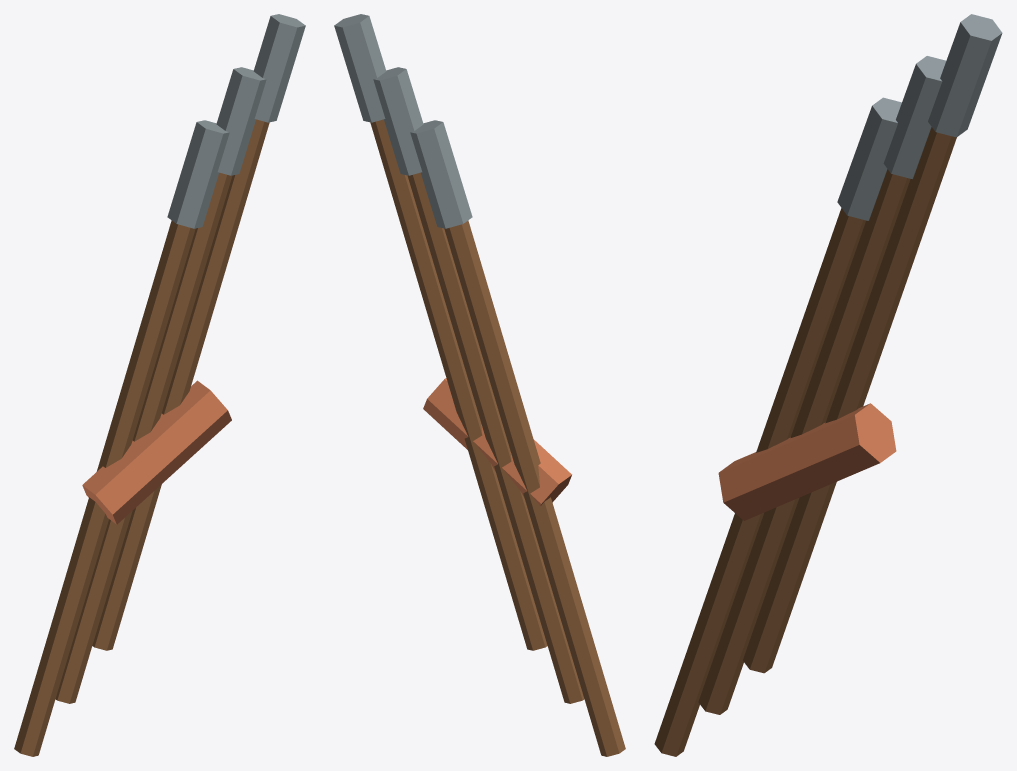
The model's file is javelin_bundle.glb.
The picture shows the model from 3 angles, left to right: view 1: azimuth 30°, elevation 25°; view 2: azimuth 150°, elevation 25°; view 3: azimuth 330°, elevation 25°; orthographic projection. The views are drawn at different scales.
Parts seen in each view (by area): view 1: javelin_bundle; view 2: javelin_bundle; view 3: javelin_bundle.
Boxes of the visible parts, x1,y1,x2,y2 form: javelin_bundle: (14,14,305,756); javelin_bundle: (334,14,625,756); javelin_bundle: (654,14,1002,756).
Bounding box in the file's own units: 0.641 × 1.46 × 0.118.
